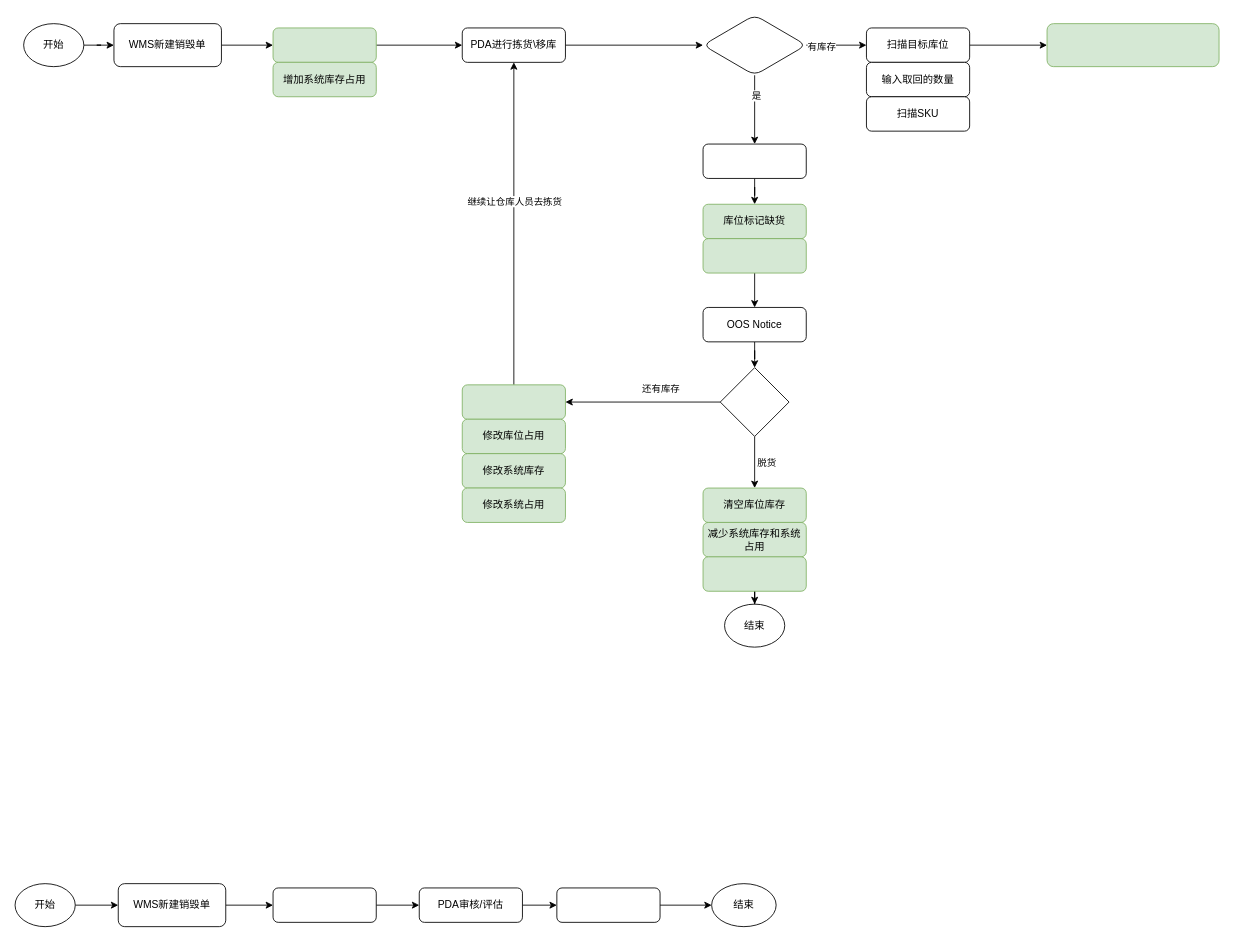
The diagram is 1234 pixels wide and 942 high, and some of its shapes have lost their labels. Each missing label, with the centre of its shape:
"PDA完成确认" goes at point 608,904.
"PDA拣货\移库" goes at point 324,904.
"修改库位库存" goes at point 513,401.
"判断是否OOS" goes at point 754,44.
"增加EOS货号在TBD – Abandonment上的库位库存（需要占用）" goes at point 1132,45.
"增加库位库存占用" goes at point 324,44.
"报告OOS" goes at point 754,160.
"是否脱货" goes at point 754,401.
"销毁任务处于缺货待确认状态" goes at point 754,255.
"销毁任务标记已取消" goes at point 754,573.
